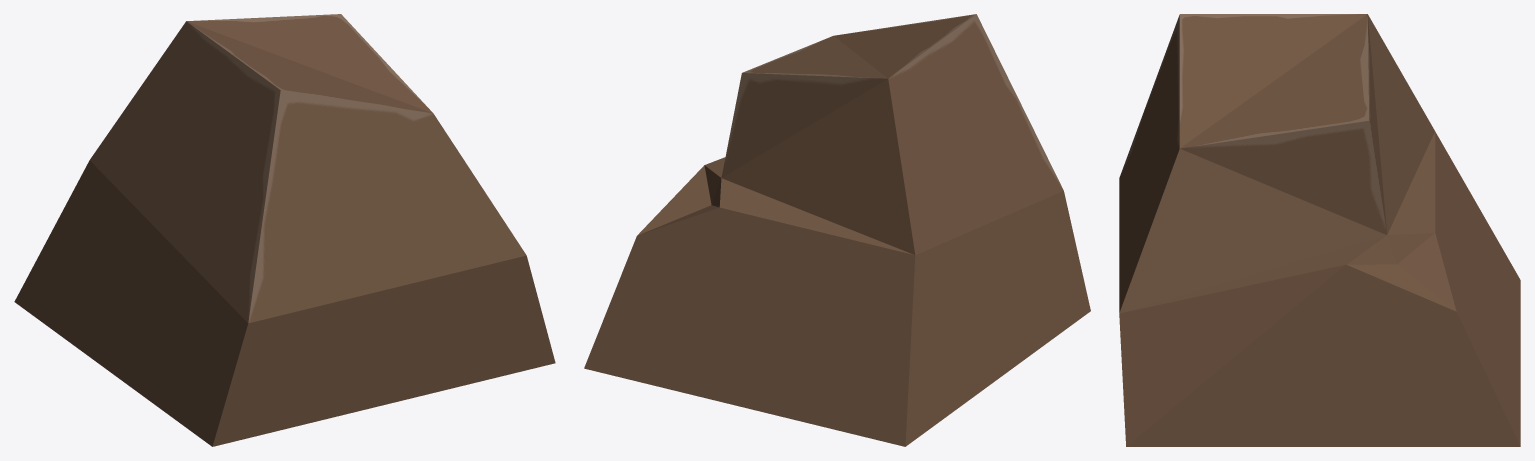
File: RockSmall02.fbx
3 renders of one model, left to right at view 1: azimuth 30°, elevation 25°; view 2: azimuth 150°, elevation 25°; view 3: azimuth 270°, elevation 25°, orthographic. The views are drawn at different scales.
Visible parts, largest first — view 1: pCube6; view 2: pCube6; view 3: pCube6.
Boxes of the visible parts, left/top/right/bottom form: pCube6: left=14, top=14, right=555, bottom=446; pCube6: left=584, top=14, right=1090, bottom=446; pCube6: left=1119, top=14, right=1520, bottom=446.
Bounding box in the file's own units: 0.8176 × 0.7144 × 0.8318.
